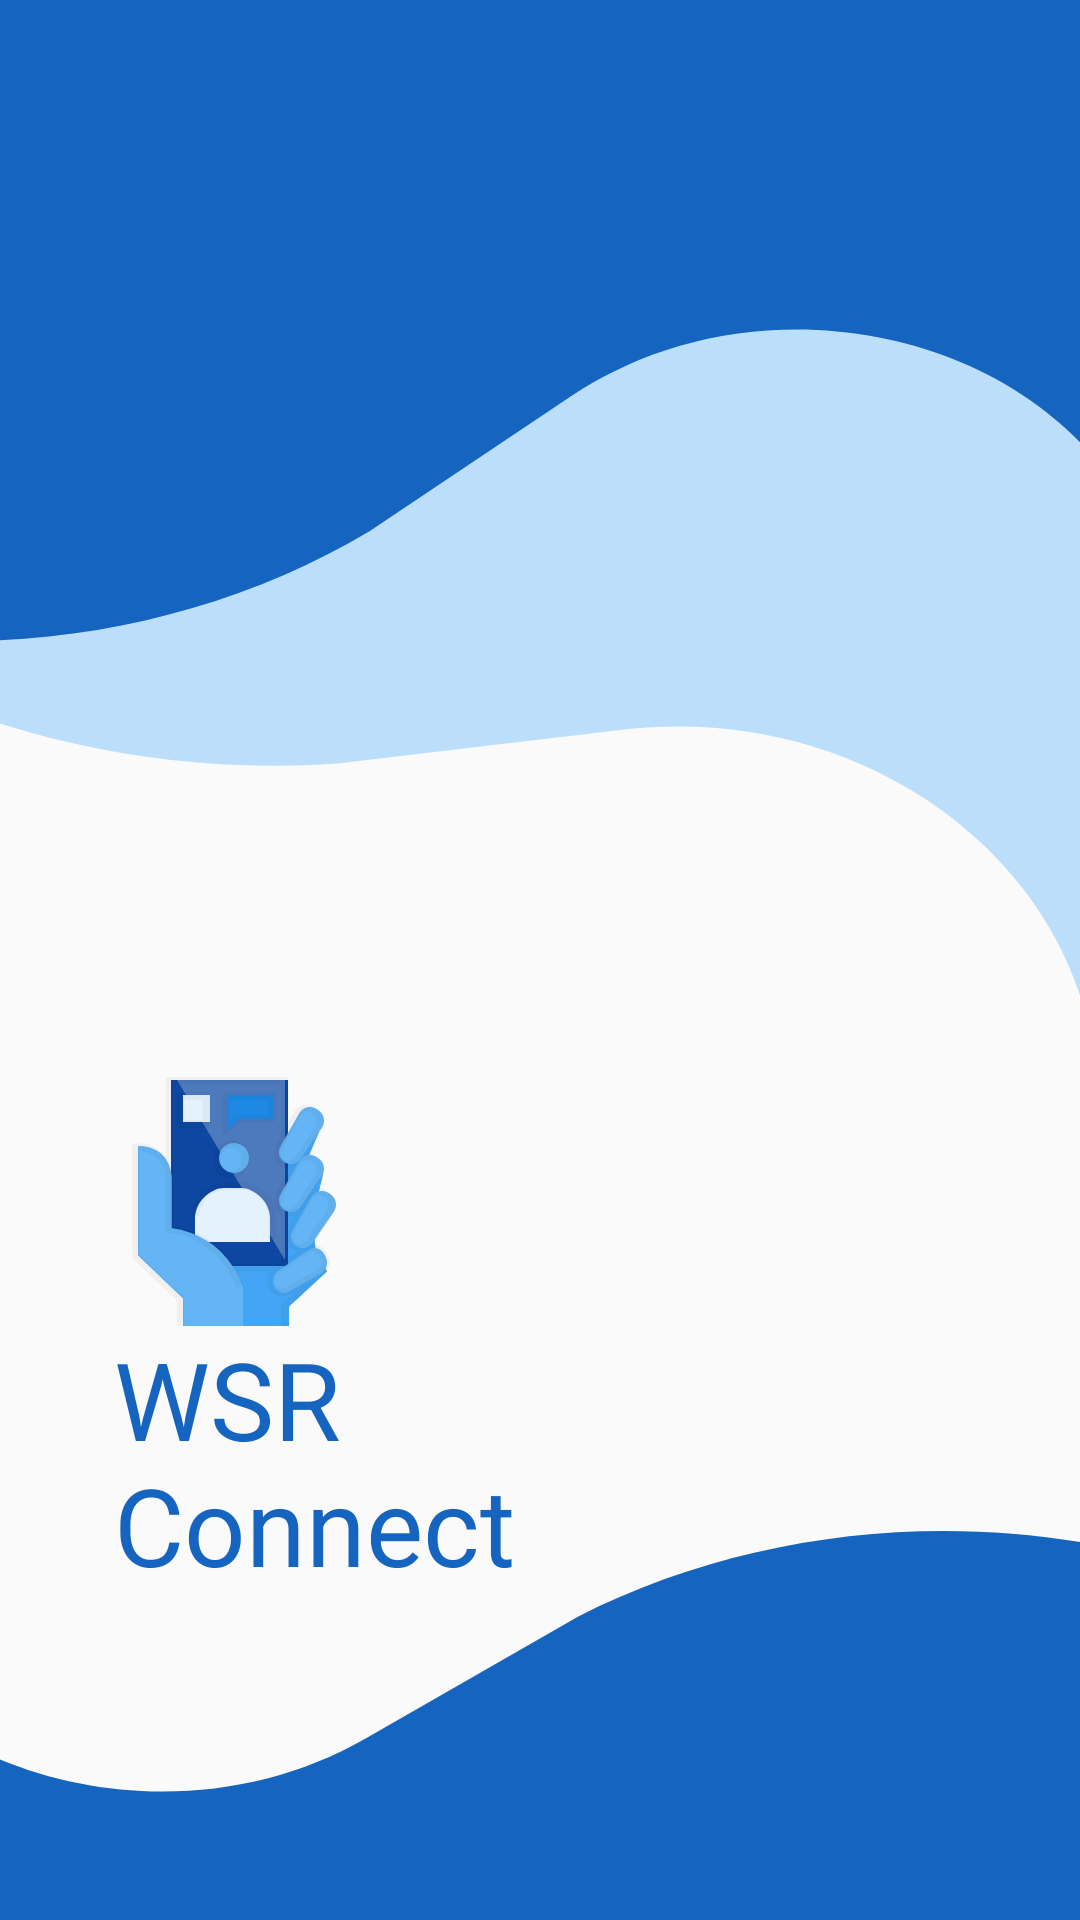

Point at icon controls on the screen. Image size 1080*1920, points as [x,y].
video calling nocolor: [237,1203]
